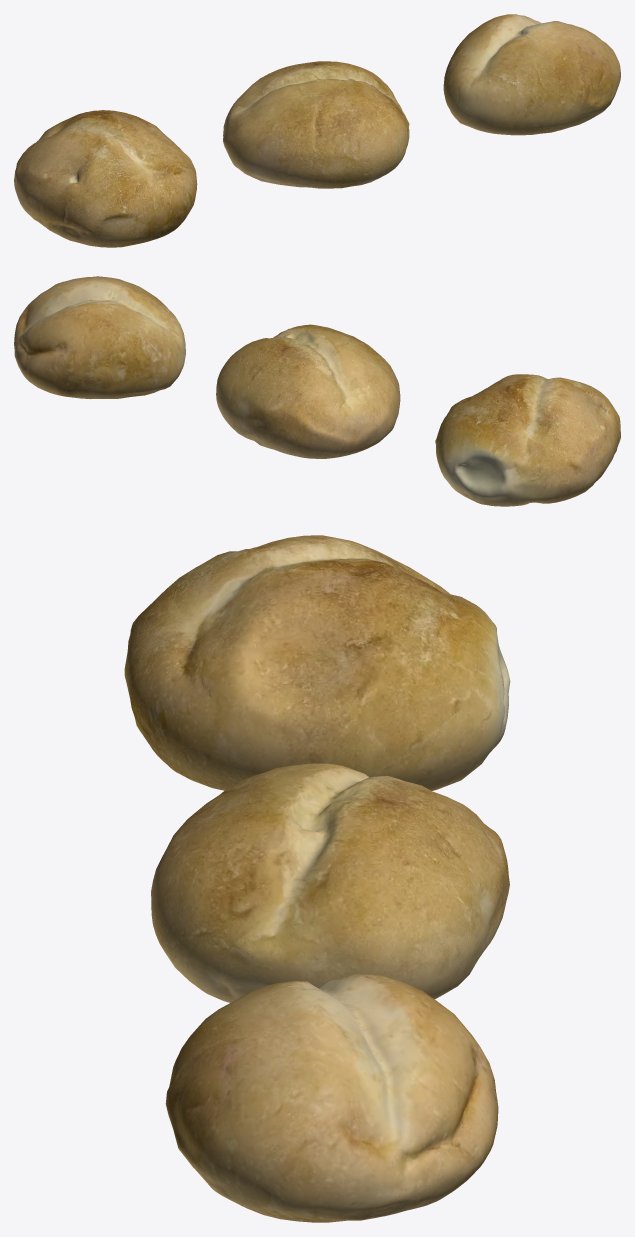
File: hamburger_buns.glb
The picture shows the model from 3 angles, top to bottom: view 1: azimuth 30°, elevation 25°; view 2: azimuth 150°, elevation 25°; view 3: azimuth 270°, elevation 25°; orthographic projection. The views are drawn at different scales.
Visible parts, largest first — view 1: hamburger_buns_01, hamburger_buns_02, hamburger_buns_03; view 2: hamburger_buns_01, hamburger_buns_02, hamburger_buns_03; view 3: hamburger_buns_01, hamburger_buns_02, hamburger_buns_03.
Boxes of the visible parts, bbox=[...] form: hamburger_buns_01: bbox=[14, 110, 197, 247]; hamburger_buns_02: bbox=[223, 61, 409, 188]; hamburger_buns_03: bbox=[443, 14, 620, 135]; hamburger_buns_01: bbox=[435, 374, 620, 506]; hamburger_buns_02: bbox=[216, 324, 400, 458]; hamburger_buns_03: bbox=[14, 276, 185, 399]; hamburger_buns_01: bbox=[124, 535, 510, 790]; hamburger_buns_02: bbox=[151, 763, 509, 1002]; hamburger_buns_03: bbox=[165, 974, 498, 1222].
Bounding box in the file's own units: 0.3972 × 0.0634 × 0.1138.
1 material, 1 textured.
